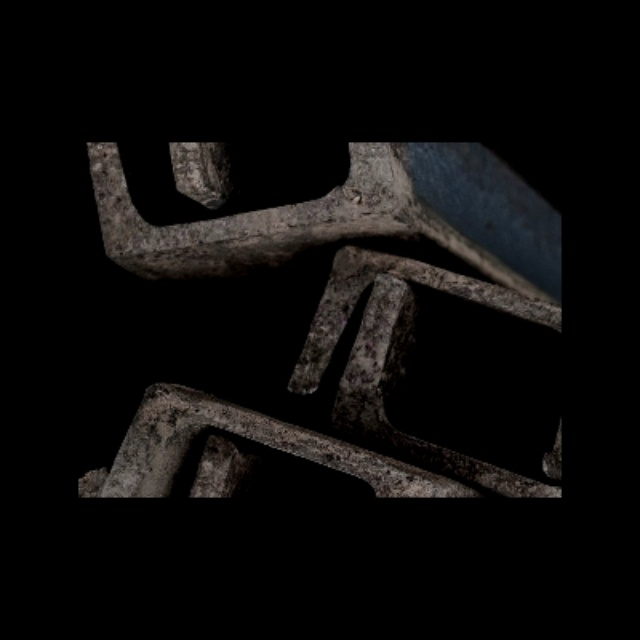Shveller: (300, 257, 562, 470), (335, 277, 562, 498), (83, 142, 398, 259), (99, 392, 437, 498), (172, 447, 495, 498), (78, 142, 201, 232)
